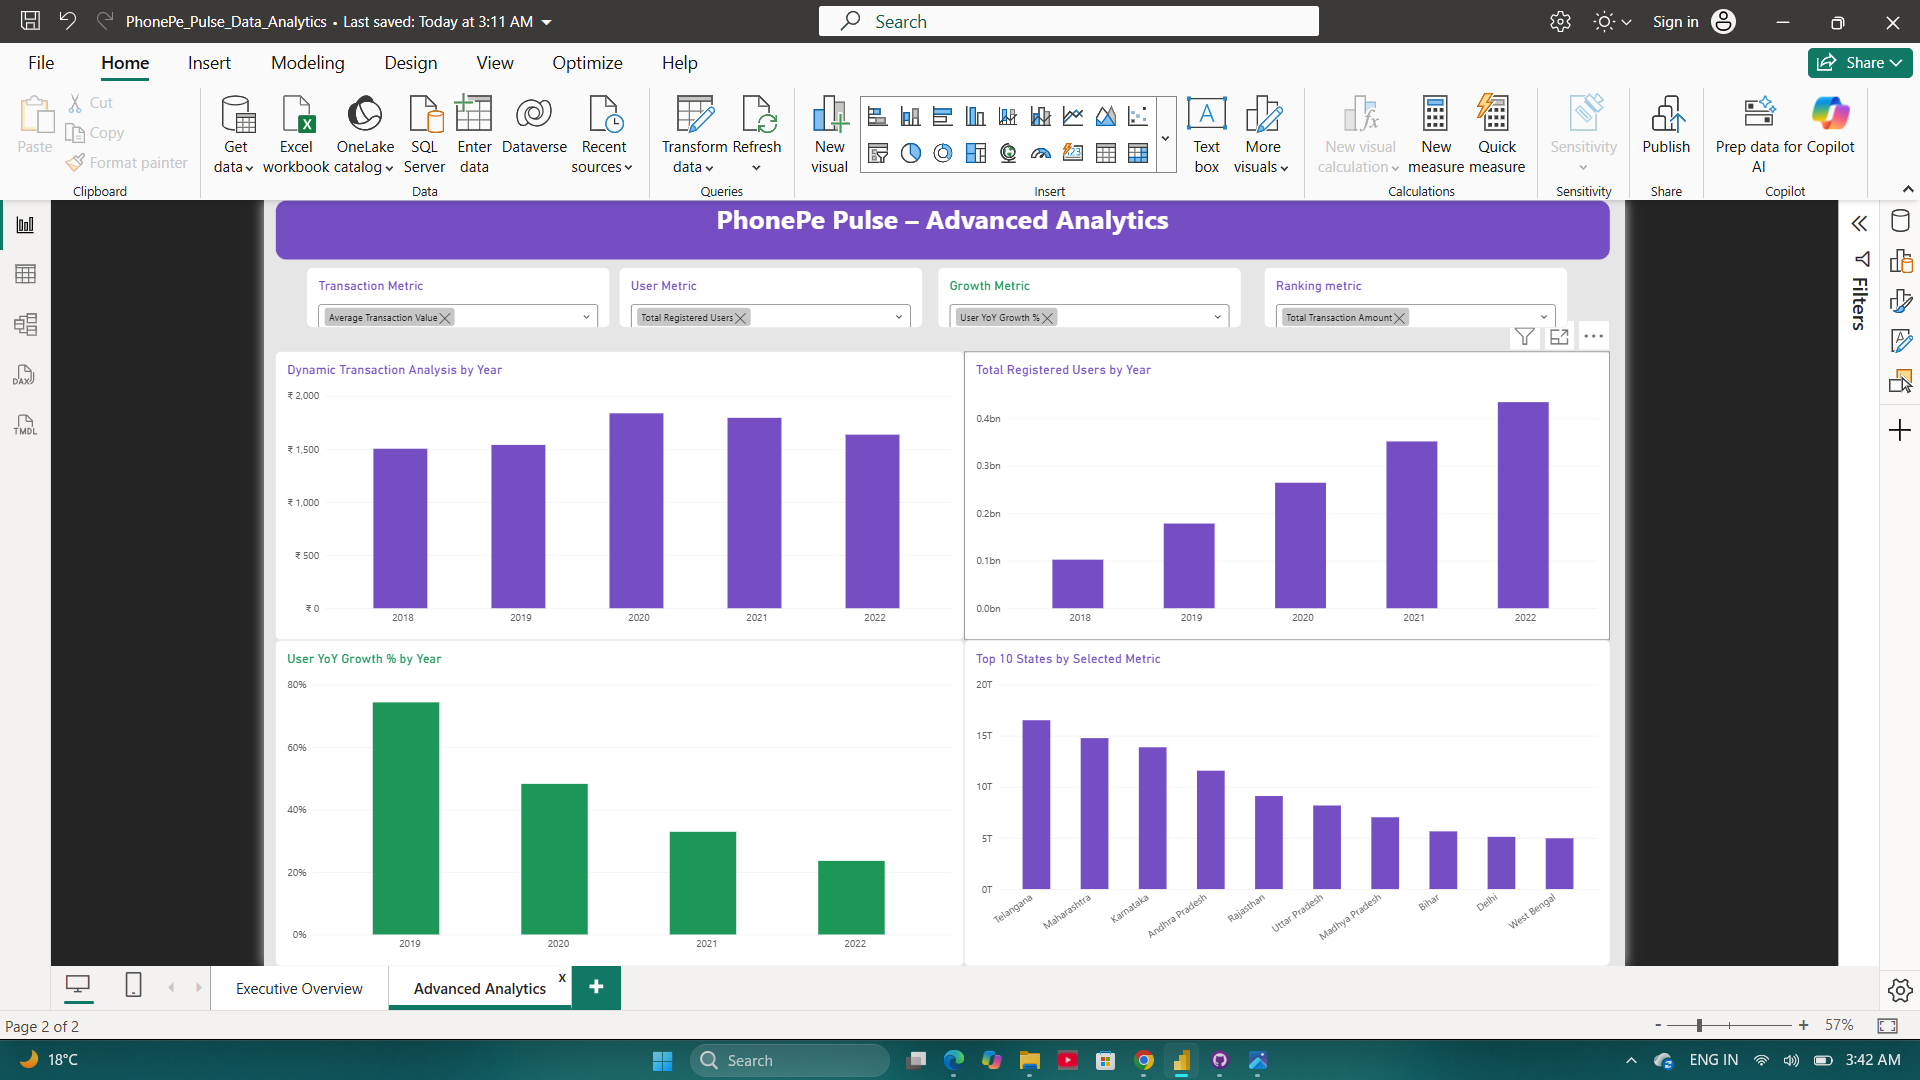

This screenshot's page, from the dashboard's own definition file:
{"tool":"powerbi","page":{"name":" Advanced Analytics","canvas":[1920,1080],"ordinal":1},"visuals":[{"type":"listSlicer","fields":{"Values":["Transaction Metric.Transaction Metric"]},"box":[60,95,428.3,85],"z":0},{"type":"textbox","box":[15.9,0,1882.3,84.6],"z":1000},{"type":"clusteredColumnChart","title":"Dynamic Transaction Analysis by Year","fields":{"Category":["DimYear.Year"],"Y":["aggregated_transaction_clean.Average Transaction Value"]},"box":[15.9,213.3,971.1,407.1],"z":2000},{"type":"listSlicer","title":"User Metric","fields":{"Values":["Parameter.Parameter"]},"box":[500,95,428,85],"z":3000},{"type":"clusteredColumnChart","fields":{"Category":["DimYear.Year"],"Y":["map_user_clean.Total Registered Users"]},"box":[987,213.3,911.2,407.1],"z":4000},{"type":"listSlicer","fields":{"Values":["Growth Metric.Growth Metric"]},"box":[950,95,428,85],"z":5000},{"type":"clusteredColumnChart","fields":{"Category":["DimYear.Year"],"Y":["map_user_clean.User YoY Growth %"]},"box":[15.9,620.4,971.1,460],"z":6000},{"type":"listSlicer","fields":{"Values":["Ranking metric.Ranking metric"]},"box":[1410,95,428,85],"z":7000},{"type":"clusteredColumnChart","title":"Top 10 States by Selected Metric","fields":{"Category":["DimState.State Display"],"Y":["DimDistrict.Dynamic Ranking Value"]},"box":[987,620.4,911.2,460],"z":8000}]}

Visuals, with their boxes on the page's 1920x1080 design canvas (x1, y1, x2, y2). These are canvas units, not pixel positions in the 1920x1080 screenshot, which may show the page scaled, cropped or inside an application window:
listSlicer - Transaction Metric.Transaction Metric: bbox(60, 95, 488, 180)
textbox: bbox(16, 0, 1898, 85)
"Dynamic Transaction Analysis by Year" clusteredColumnChart: bbox(16, 213, 987, 620)
"User Metric" listSlicer: bbox(500, 95, 928, 180)
clusteredColumnChart - DimYear.Year x map_user_clean.Total Registered Users: bbox(987, 213, 1898, 620)
listSlicer - Growth Metric.Growth Metric: bbox(950, 95, 1378, 180)
clusteredColumnChart - DimYear.Year x map_user_clean.User YoY Growth %: bbox(16, 620, 987, 1080)
listSlicer - Ranking metric.Ranking metric: bbox(1410, 95, 1838, 180)
"Top 10 States by Selected Metric" clusteredColumnChart: bbox(987, 620, 1898, 1080)
